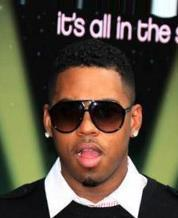face: (54, 100, 119, 168)
